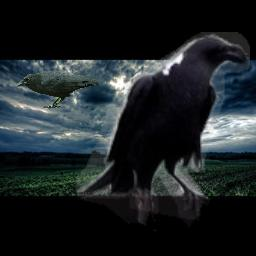Crow: (75, 32, 250, 231), (16, 71, 98, 109)
